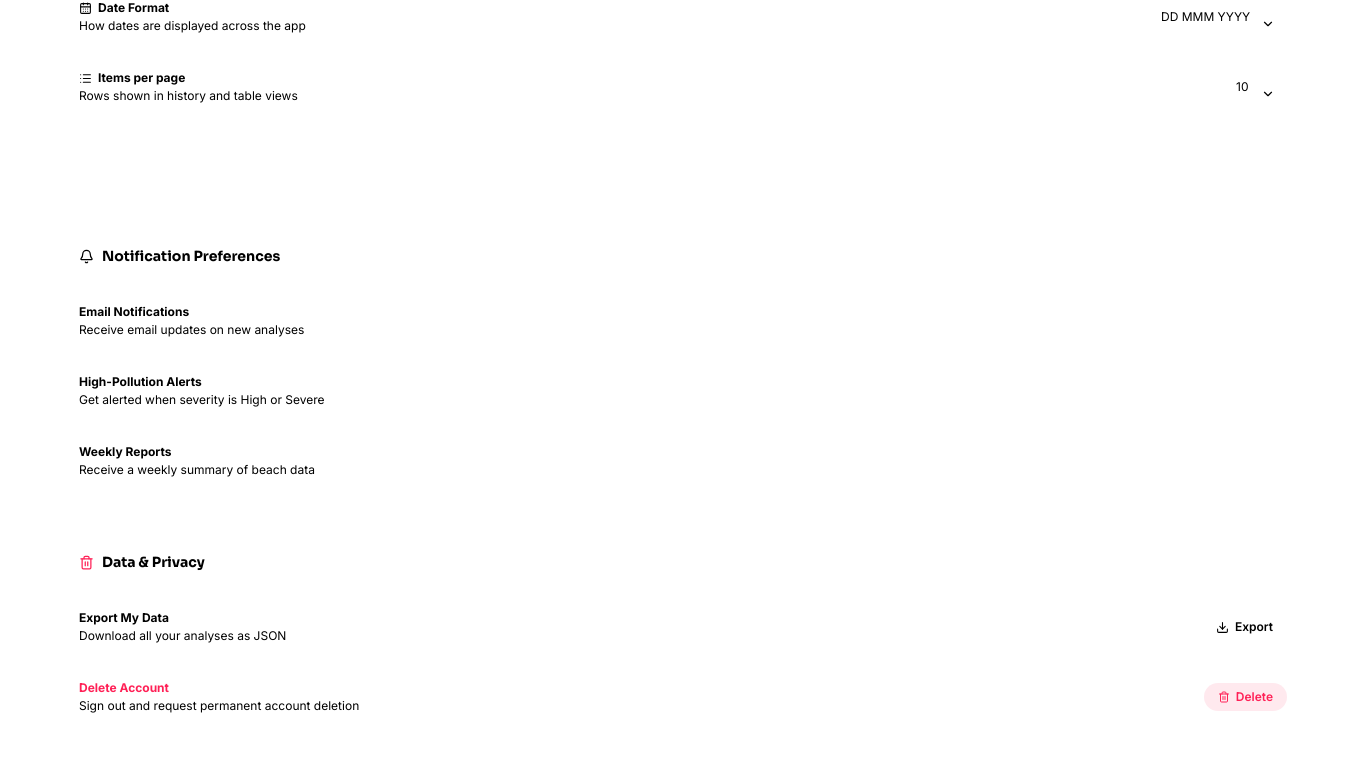
Test case: SettingsPage component › exports user analyses data via axios when Export button is clicked
(page scrolled)
Click the button "Export": (1244, 627) [1202, 613, 1287, 641]
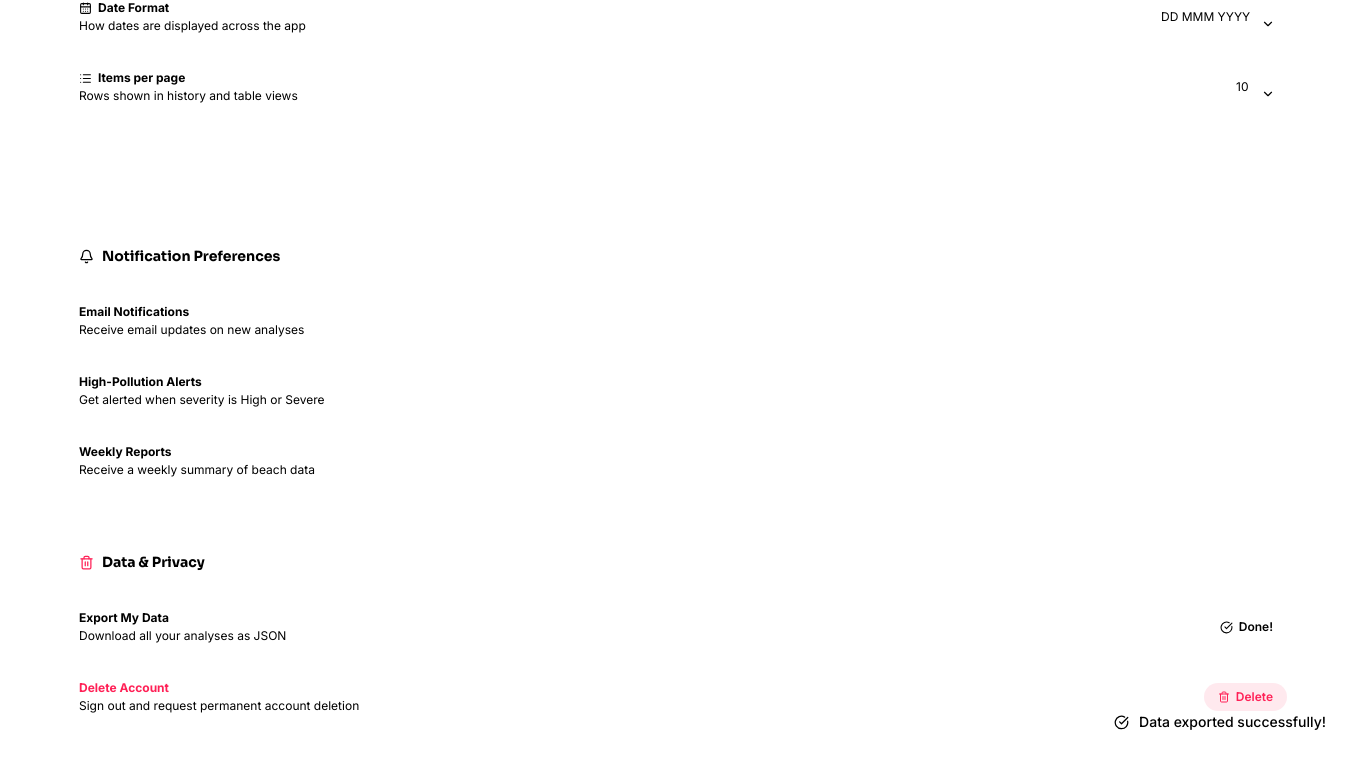
Now the text "Data exported successfully!" is shown, box [1139, 712, 1326, 732]
